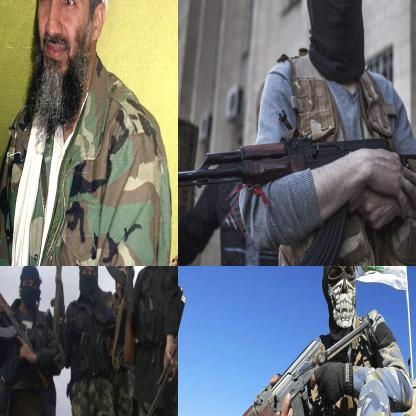rifle: (178, 135, 415, 265), (178, 310, 378, 415), (0, 266, 50, 386), (143, 266, 177, 415), (104, 266, 138, 364), (45, 266, 73, 350)
